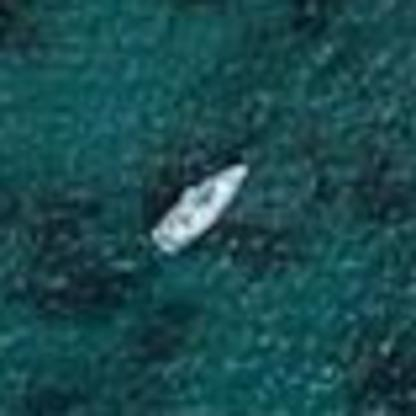ship: (137, 155, 256, 261)
